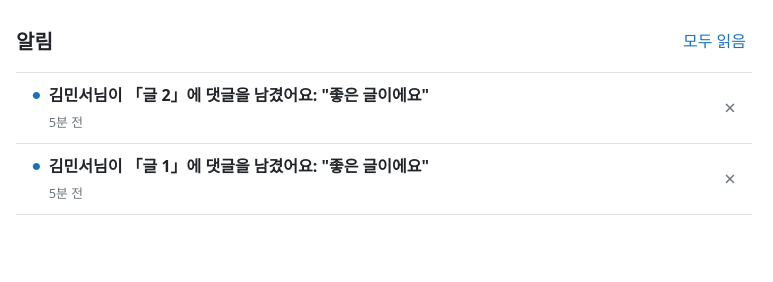
Test case: NotificationsPage › [모두 읽음]은 모두 읽음 표시로 바꾸고 바뀐 개수를 알린다
This screenshot has width=773, height=282.
Check: the text "●" is shown 2 times, box [32,89,41,102]; [32,160,41,173]
Click the button "모두 읽음". click: coordinates (714, 42)
box: [677,20,752,64]
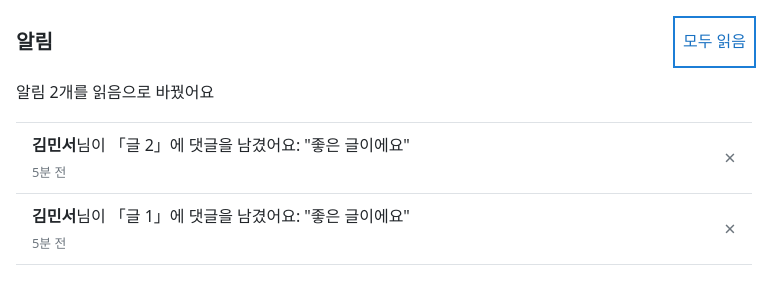
Check: the text "알림 2개를 읽음으로 바꿨어요" is shown, box [16,81,214,103]
Check: the text "●" is gone
